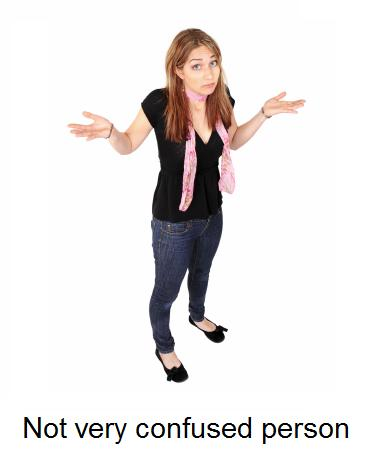confused: (180, 44, 225, 100)
